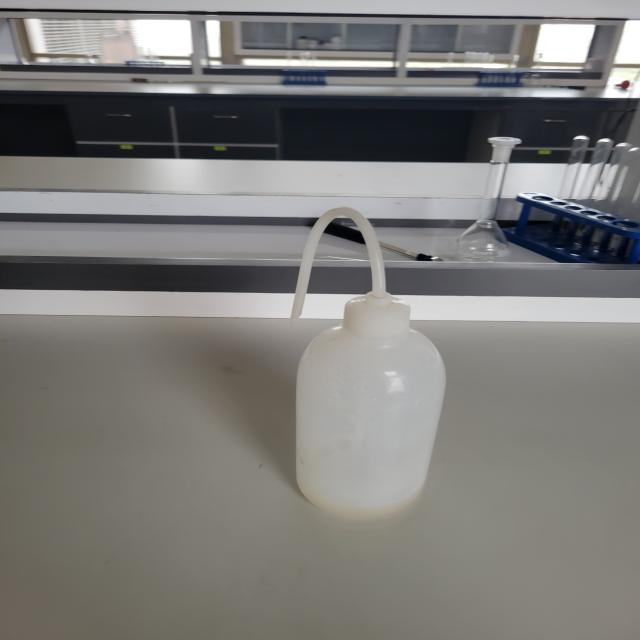Wash_Bottle: (256, 179, 486, 566)
